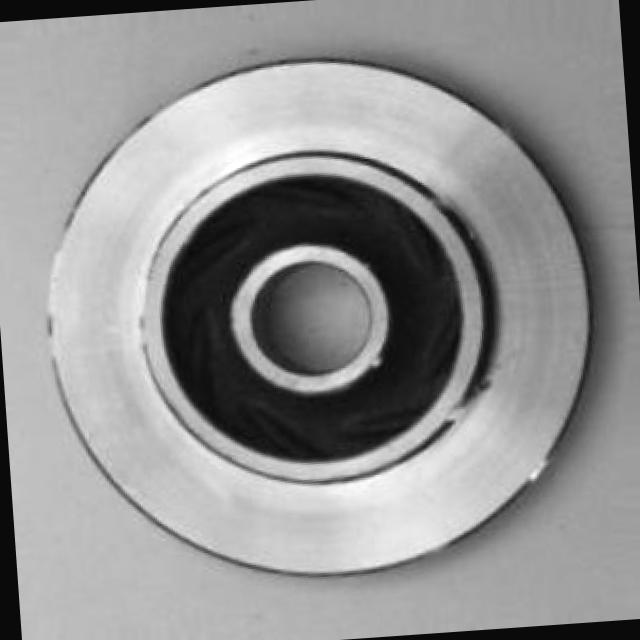Defect: (436, 384, 486, 429)
